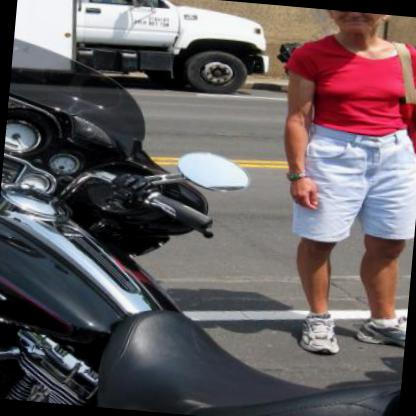truck: (97, 0, 280, 97)
